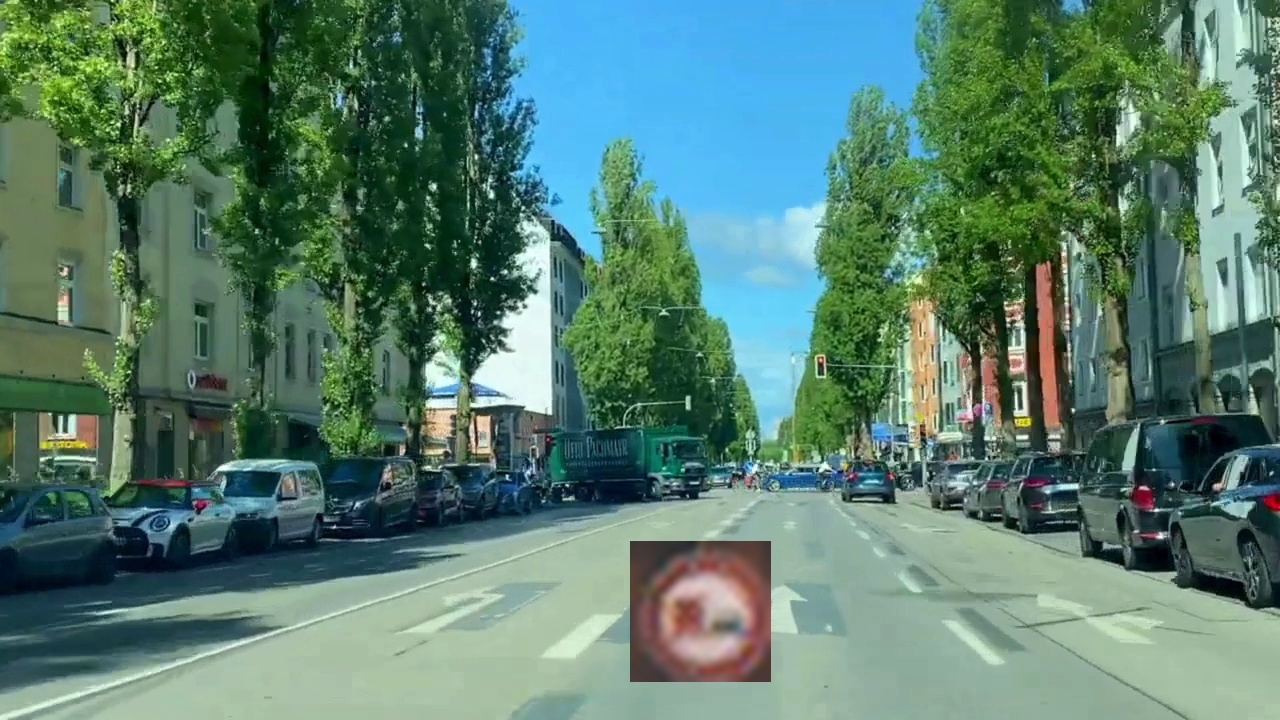No pass >3.5t: (630, 541, 771, 682)
